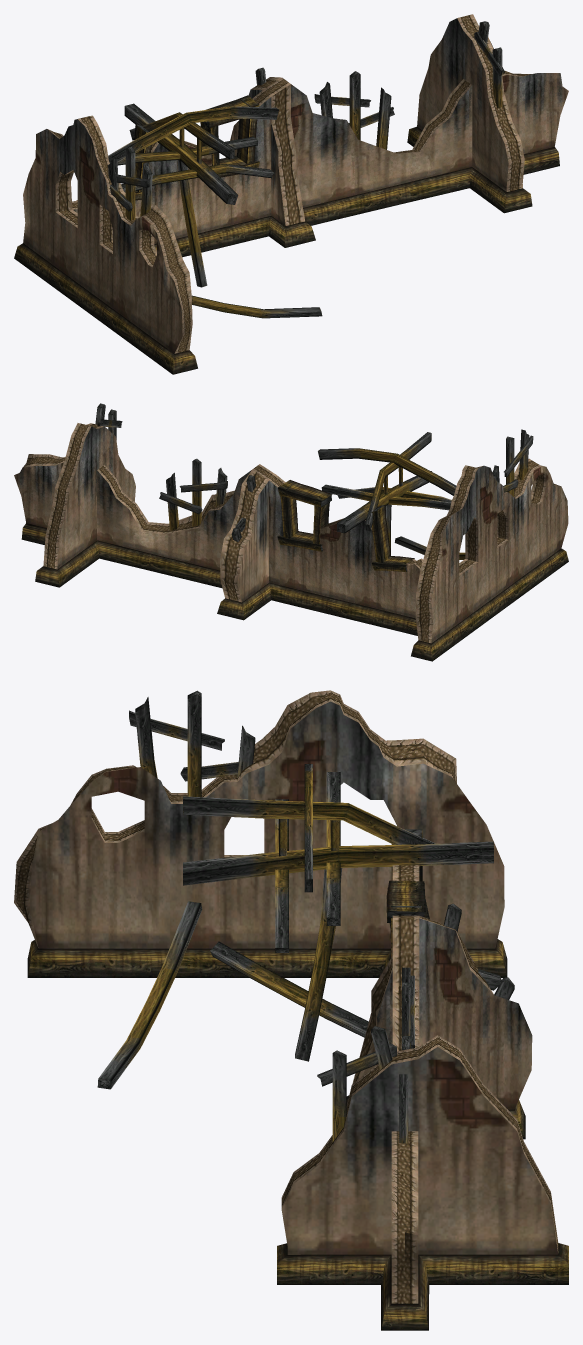
The model's file is CB_BRKN_BUILDING08.fbx.
The picture shows the model from 3 angles, top to bottom: view 1: azimuth 30°, elevation 25°; view 2: azimuth 150°, elevation 25°; view 3: azimuth 270°, elevation 25°; orthographic projection. The views are drawn at different scales.
Visible parts, largest first — view 1: CB_BRKN_BUILDING08; view 2: CB_BRKN_BUILDING08; view 3: CB_BRKN_BUILDING08.
Boxes of the visible parts, x1=… form: CB_BRKN_BUILDING08: x1=14, y1=14, x2=568, y2=374; CB_BRKN_BUILDING08: x1=14, y1=403, x2=568, y2=661; CB_BRKN_BUILDING08: x1=14, y1=690, x2=568, y2=1330.
Size of the model in its own units: 418742 by 148210 by 258079.
8 materials, 8 textured.
